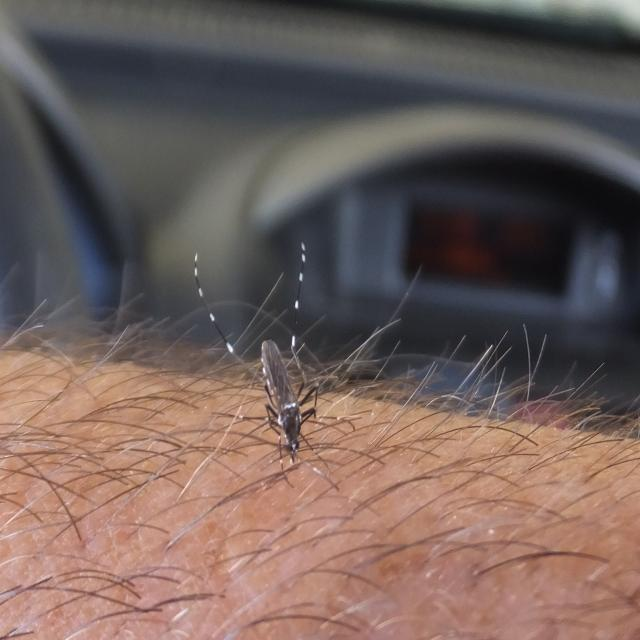albopictus: (175, 231, 383, 470)
